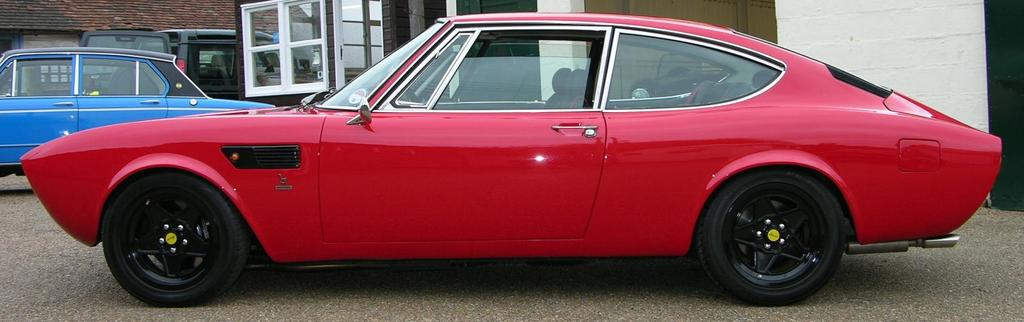car: (19, 12, 986, 308), (0, 36, 290, 191), (151, 22, 317, 101)
